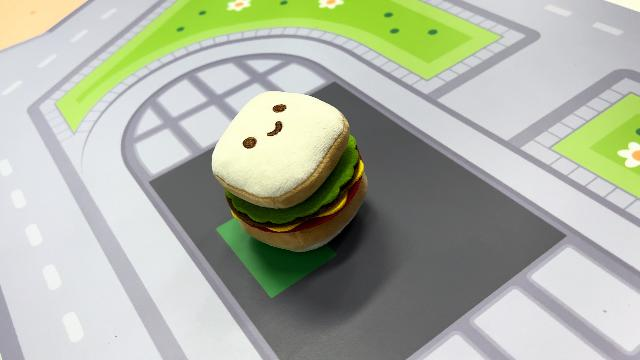sandwich: (208, 88, 370, 254)
